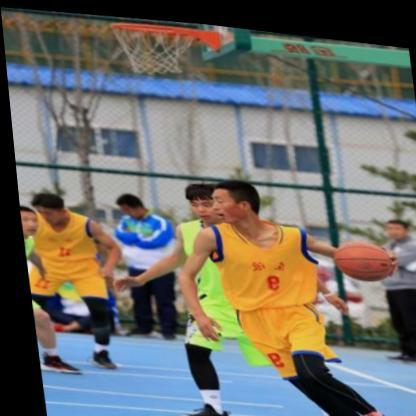basketball: (327, 230, 390, 276)
